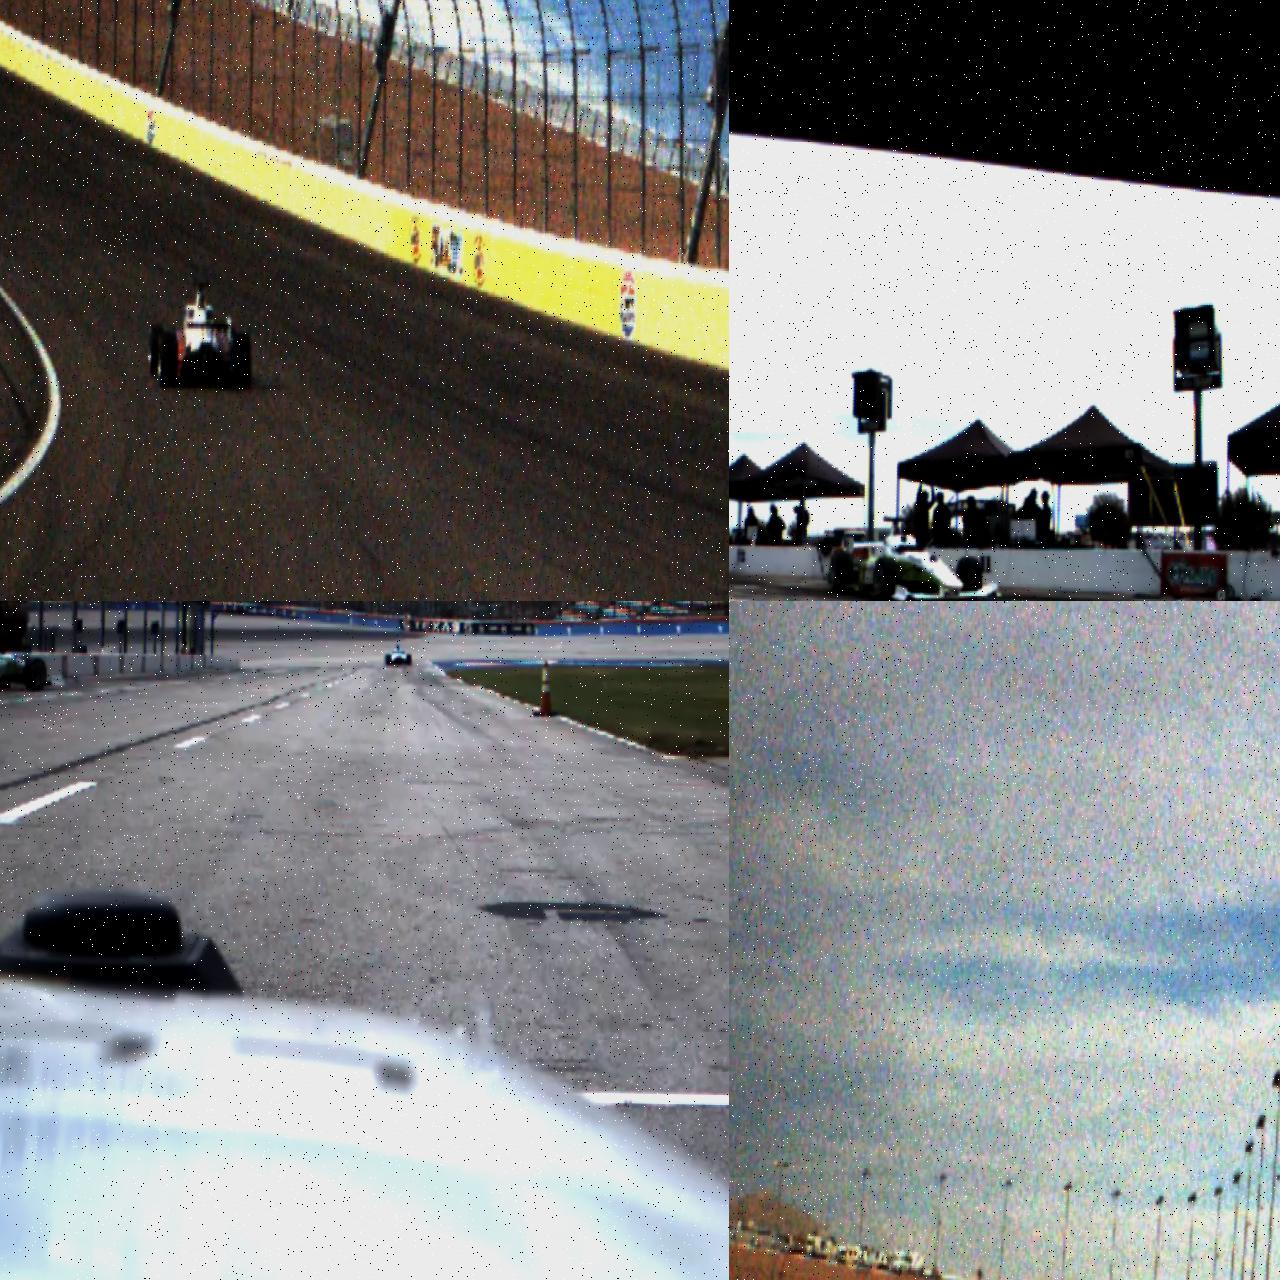AV: (829, 515, 1005, 601), (148, 279, 253, 390), (0, 621, 48, 700), (384, 644, 411, 666)
Wheel: (956, 556, 982, 601), (830, 551, 855, 594), (159, 333, 178, 389), (233, 333, 252, 389), (873, 557, 897, 601), (149, 324, 165, 375), (25, 659, 47, 690), (386, 654, 392, 666), (407, 654, 411, 666)
